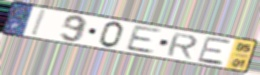0: (98, 21, 126, 48)
9: (59, 15, 88, 43)
E: (123, 25, 164, 55), (196, 36, 232, 67)
I: (29, 9, 49, 37)
R: (165, 32, 200, 60)
